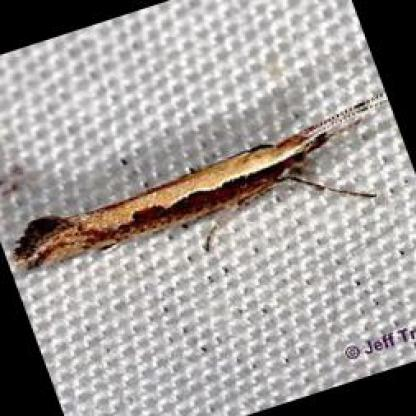plutella: (9, 94, 384, 274)
